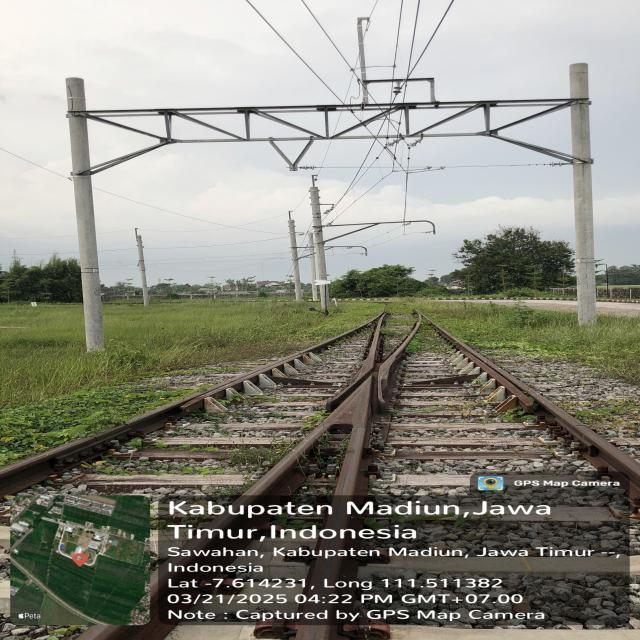rail-detection: (432, 323, 640, 495)
